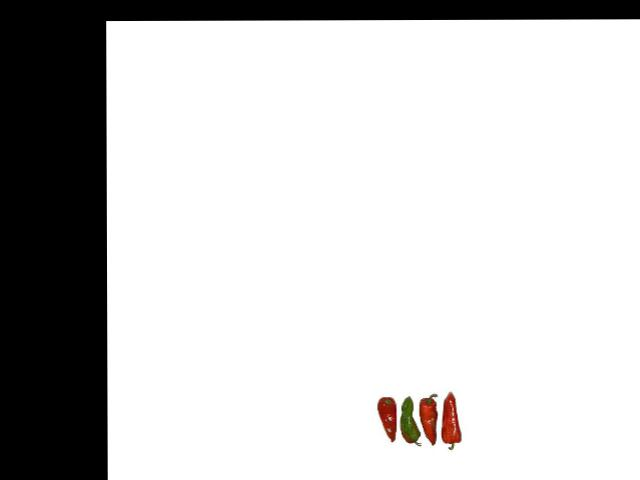bell_pepper: (372, 395, 398, 446)
